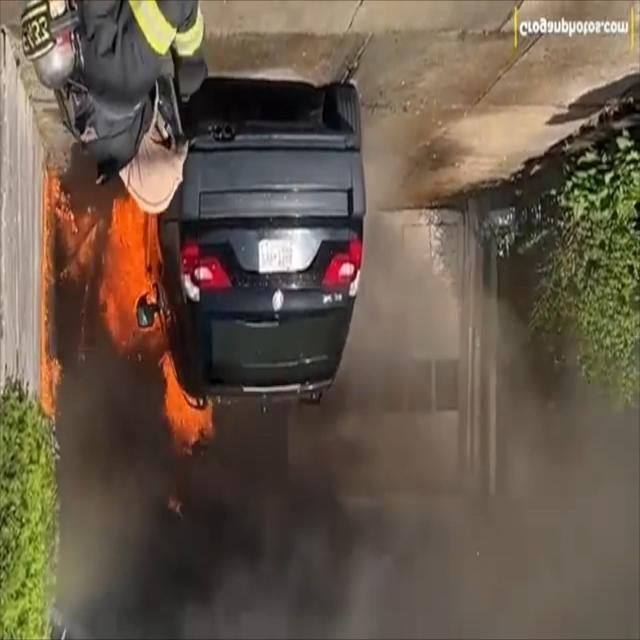fire: (36, 168, 226, 514)
